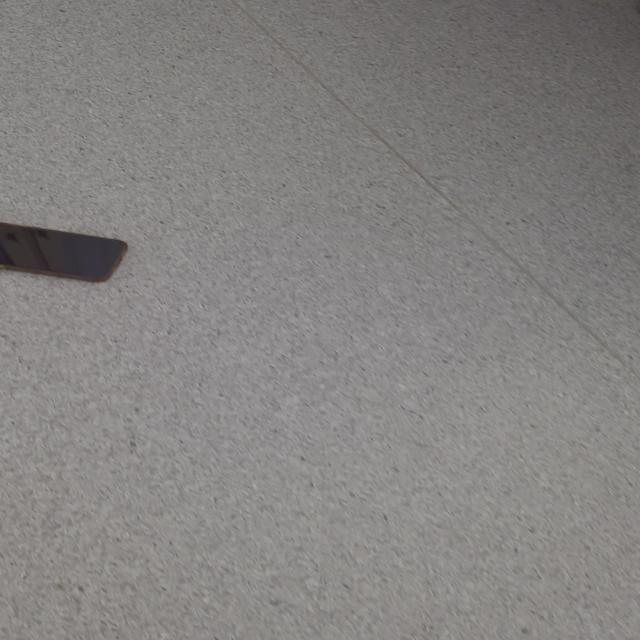phone: (0, 221, 128, 283)
